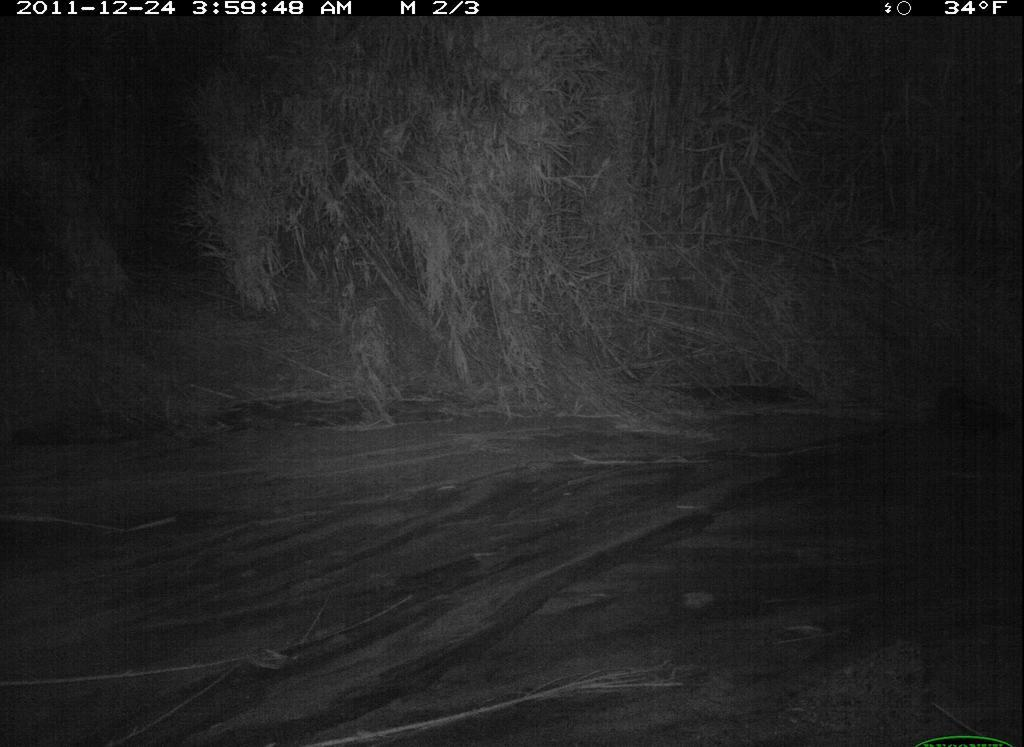skunk: (928, 374, 1023, 466)
